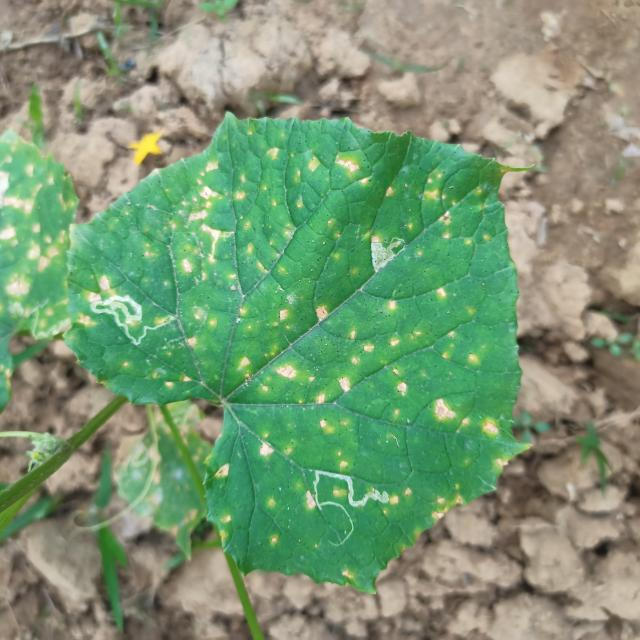disease_cucumber: (88, 137, 490, 537), (0, 145, 68, 331)
